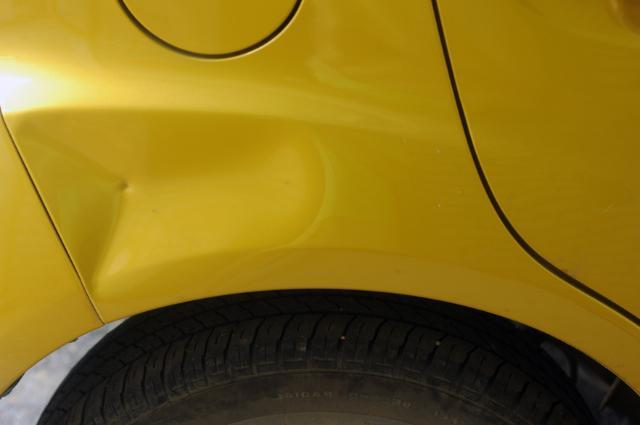Fender: (54, 83, 362, 283)
